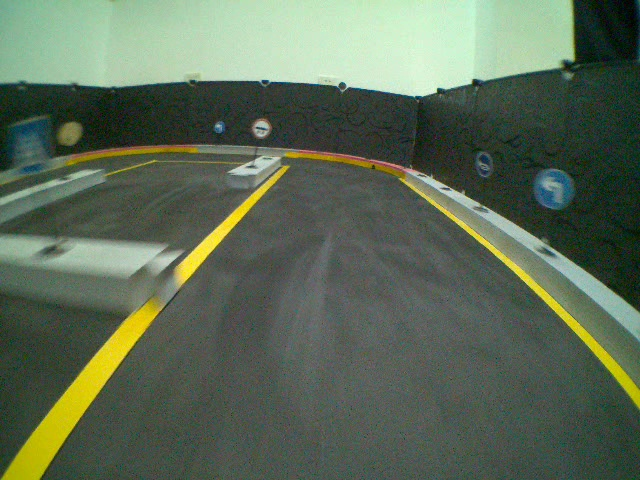Check: (251, 117, 272, 138)
horn: (474, 151, 494, 179)
turn: (533, 168, 577, 212), (214, 120, 225, 134)
